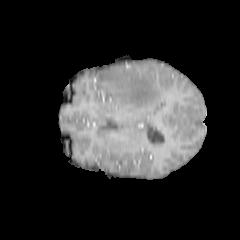glioma: (96, 63, 165, 111)
